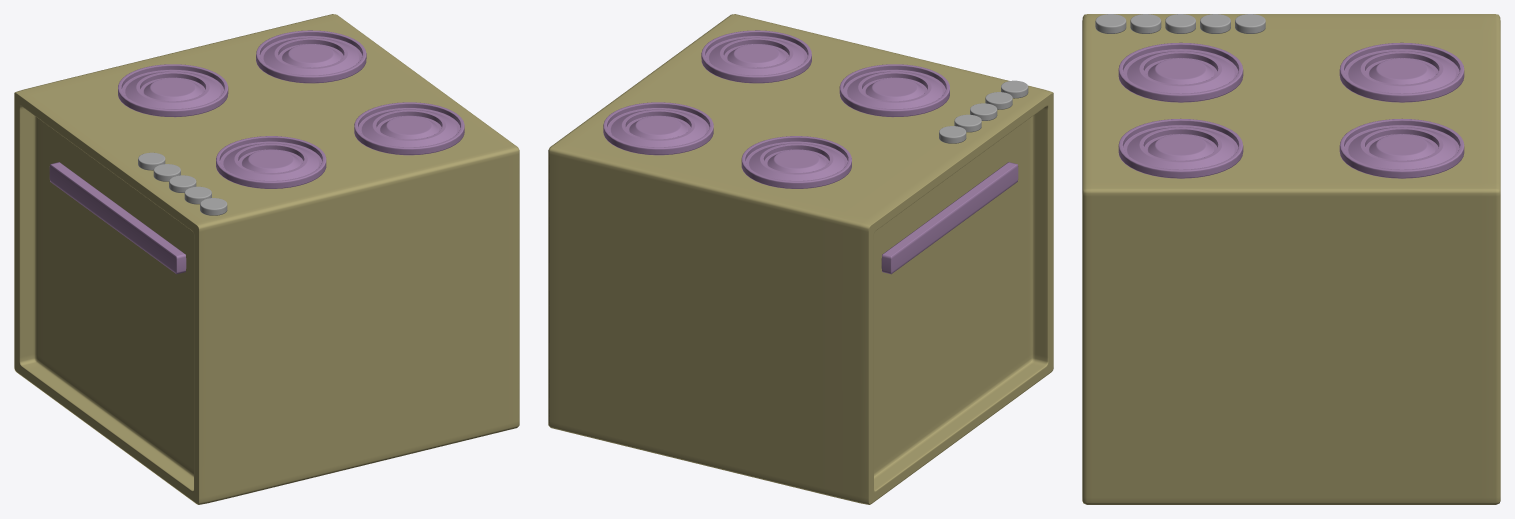
The model's file is Oven_Oven.fbx.
3 views of the same model, side by side, from view 1: azimuth 30°, elevation 25°; view 2: azimuth 150°, elevation 25°; view 3: azimuth 270°, elevation 25° (orthographic). The views are drawn at different scales.
Parts seen in each view (by area): view 1: Oven_Oven; view 2: Oven_Oven; view 3: Oven_Oven.
Boxes of the visible parts, x1,y1,x2,y2 form: Oven_Oven: [14, 14, 519, 504]; Oven_Oven: [548, 14, 1053, 504]; Oven_Oven: [1082, 14, 1500, 504].
Size of the model in its own units: 3 by 2.56 by 3.
